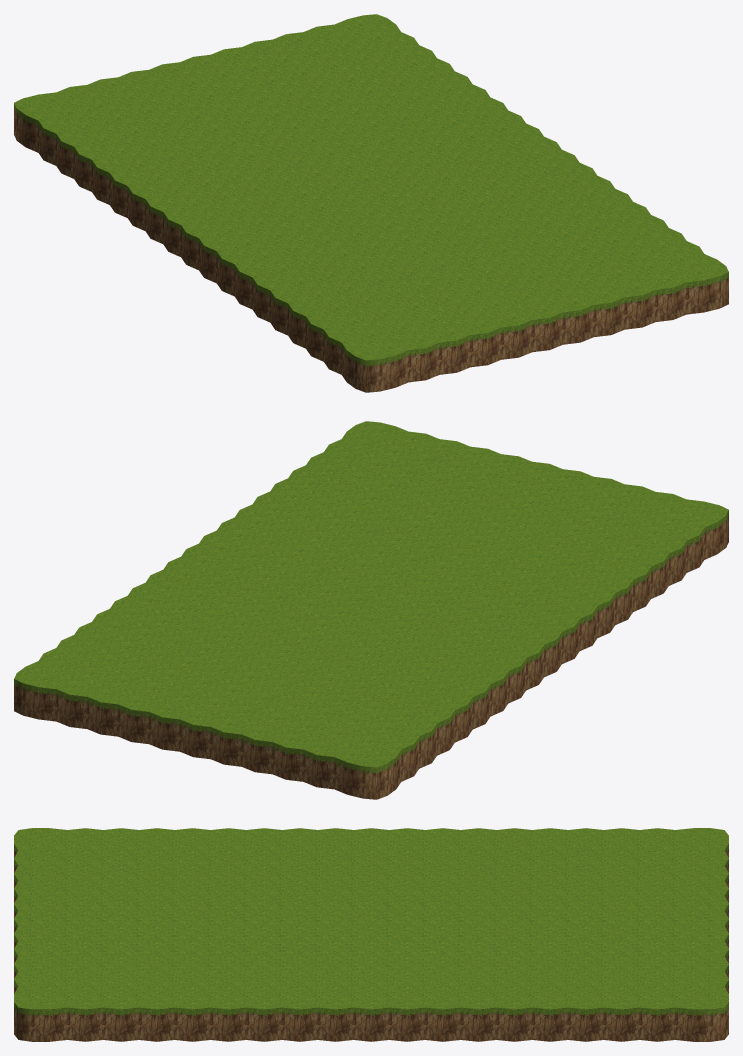
The model's file is StageSoratobuHusenWari.fbx.
3 renders of one model, top to bottom at view 1: azimuth 30°, elevation 25°; view 2: azimuth 150°, elevation 25°; view 3: azimuth 270°, elevation 25°, orthographic.
Parts seen in each view (by area): view 1: Terrain; view 2: Terrain; view 3: Terrain.
Part boxes in pixels (bbox=[...]): Terrain: bbox=[14, 14, 728, 392]; Terrain: bbox=[14, 421, 728, 799]; Terrain: bbox=[14, 828, 728, 1041].
Bounding box in the file's own units: 138 × 11.48 × 230.
1 material, 1 textured.
